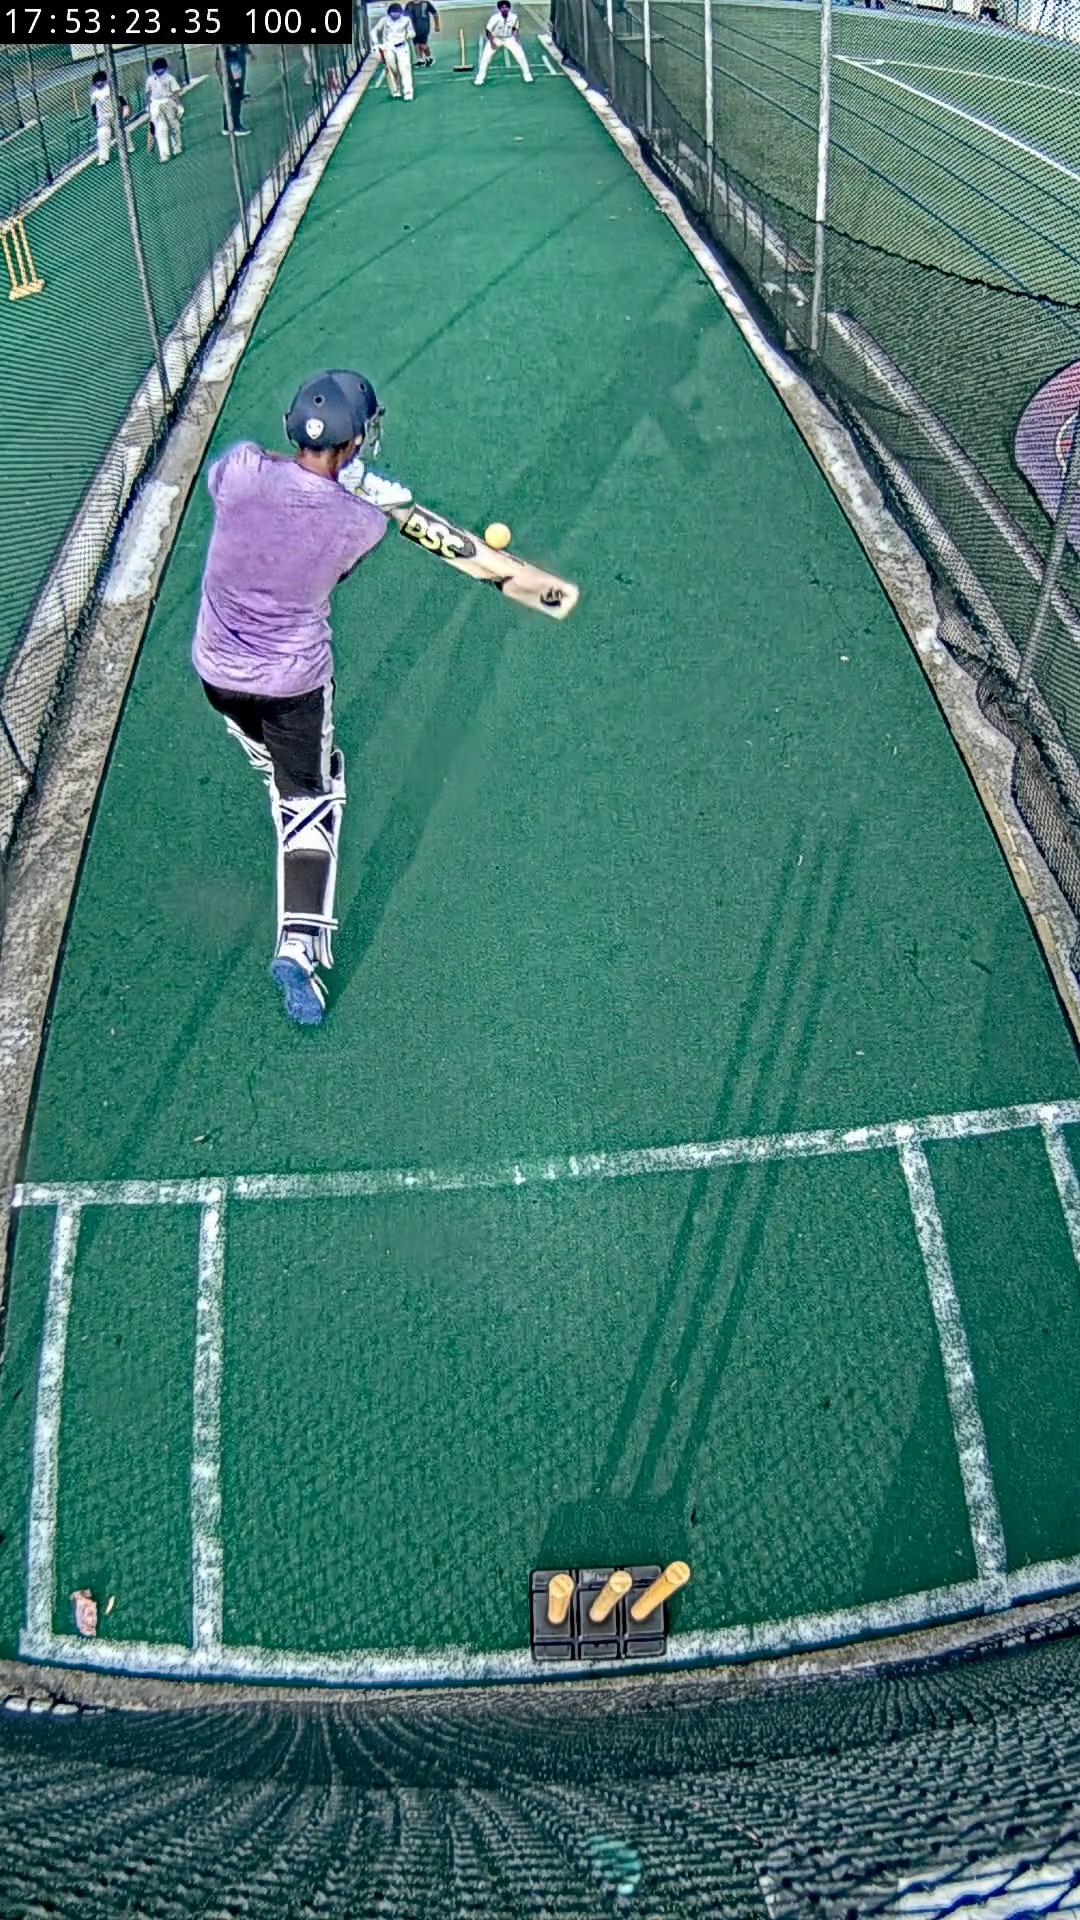ball: (484, 521, 510, 551)
bat: (386, 506, 578, 618)
gloves: (338, 458, 413, 508)
helmet: (285, 368, 382, 452)
stumps: (529, 1560, 690, 1665)
